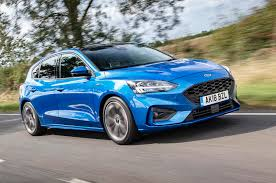car: (9, 35, 249, 146)
